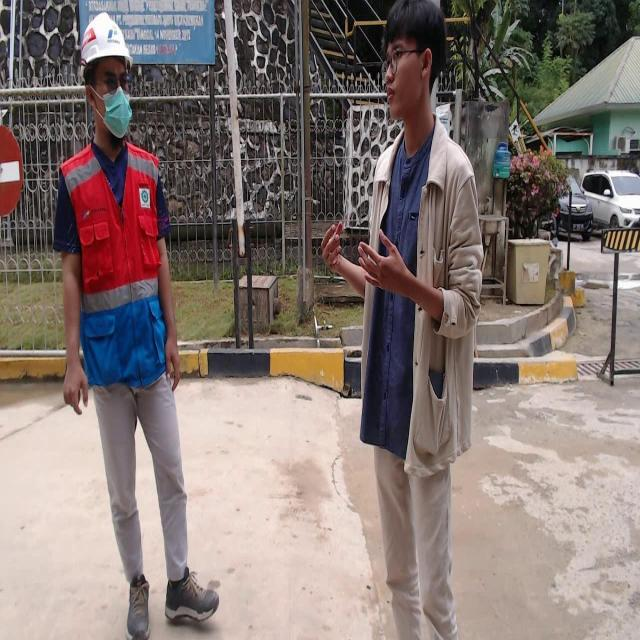helmet: (76, 10, 135, 68)
